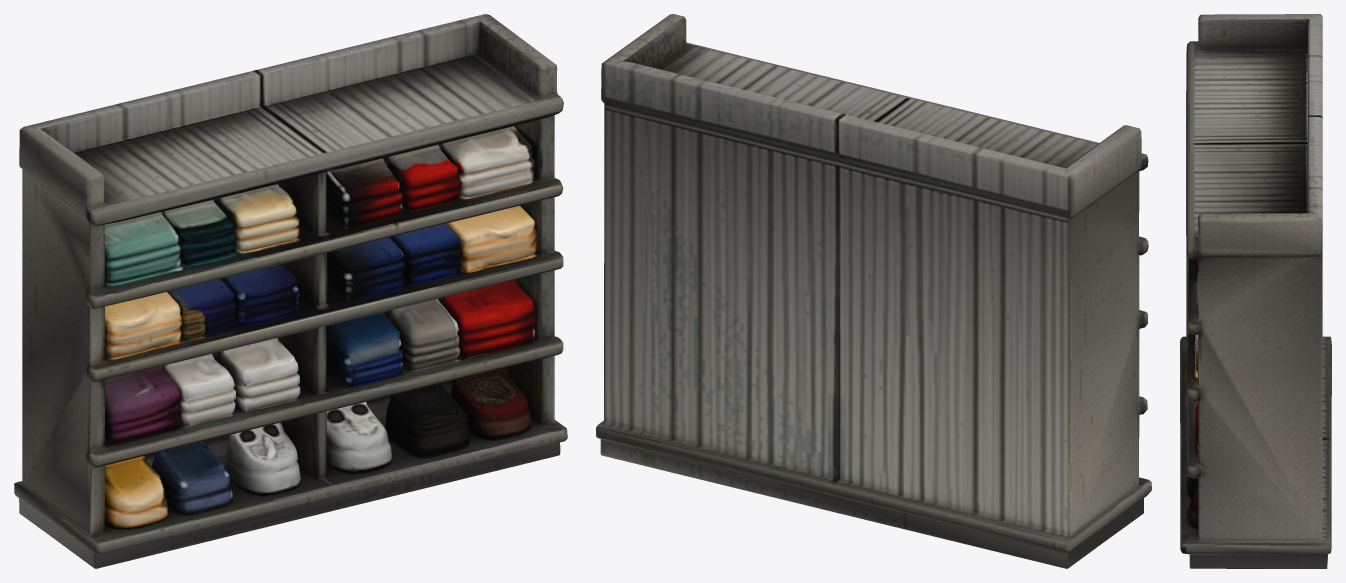
The model's file is polkaNaUbrania.obj.
3 renders of one model, left to right at view 1: azimuth 30°, elevation 25°; view 2: azimuth 150°, elevation 25°; view 3: azimuth 270°, elevation 25°, orthographic. The views are drawn at different scales.
Visible parts, largest first — view 1: Bodygeom1; view 2: Bodygeom1; view 3: Bodygeom1.
Part boxes in pixels (x1,y1,x2,y2): Bodygeom1: (14, 14, 567, 568); Bodygeom1: (596, 14, 1151, 568); Bodygeom1: (1180, 14, 1331, 568).
Size of the model in its own units: 11.36 by 8.93 by 3.5.
1 material, 1 textured.
